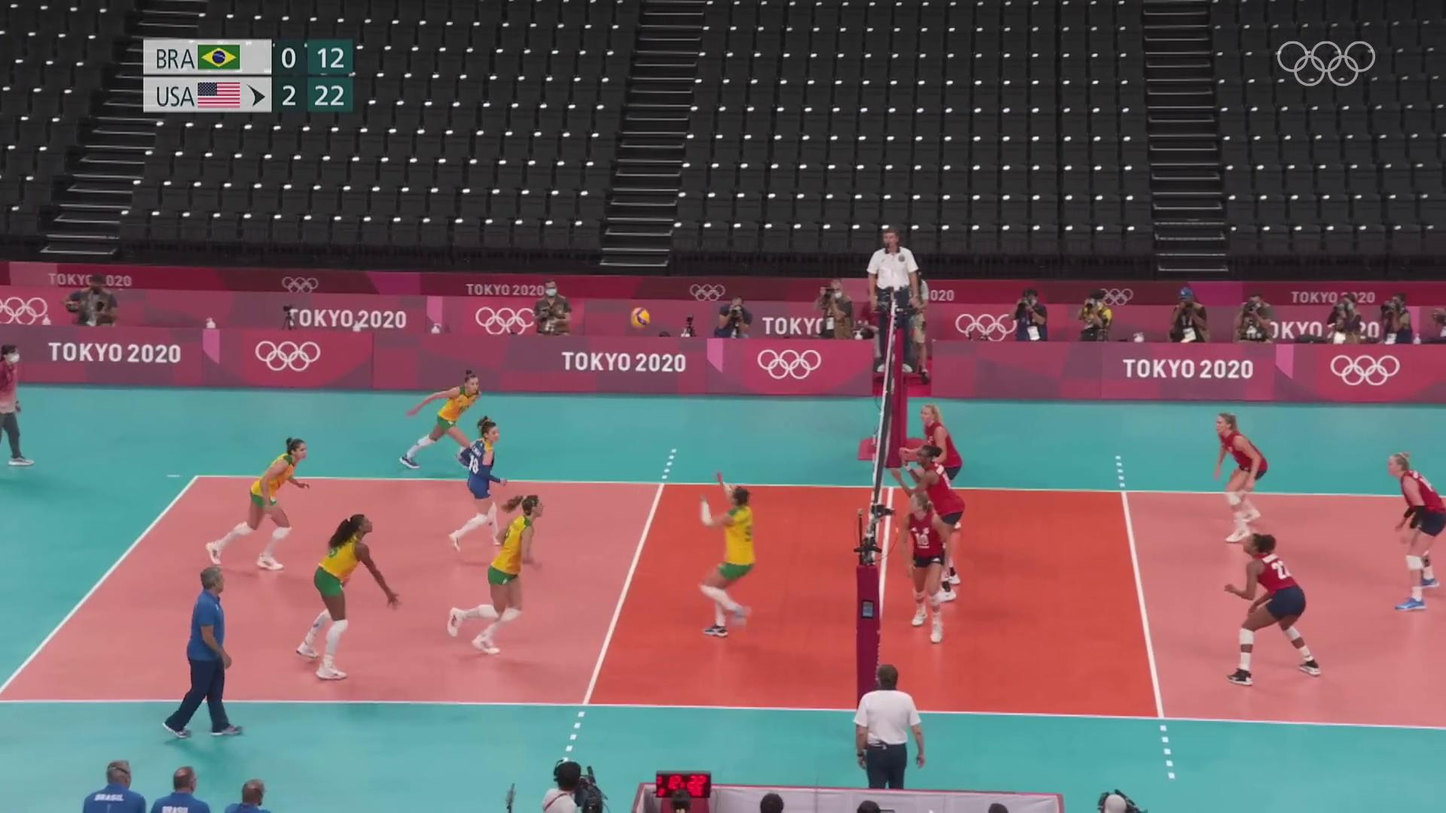player: (445, 495, 546, 656), (298, 512, 395, 677), (1218, 536, 1327, 682), (204, 437, 311, 571), (698, 474, 759, 642), (1385, 453, 1445, 610), (902, 447, 963, 601), (899, 492, 954, 649), (402, 374, 487, 475), (446, 420, 509, 553), (1210, 414, 1274, 544), (908, 404, 962, 534)
refree: (853, 664, 925, 793), (860, 231, 922, 376), (0, 349, 32, 469)
